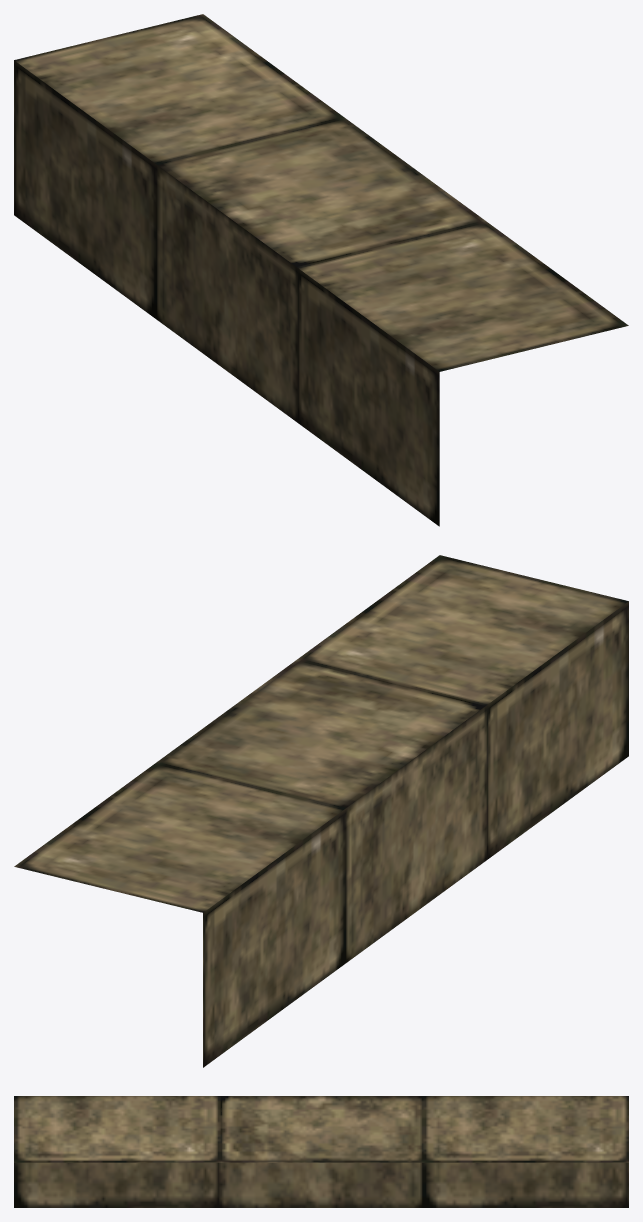
File: OVERHILL_A_01_OBJECT332.fbx
The picture shows the model from 3 angles, top to bottom: view 1: azimuth 30°, elevation 25°; view 2: azimuth 150°, elevation 25°; view 3: azimuth 270°, elevation 25°; orthographic projection. The views are drawn at different scales.
Parts seen in each view (by area): view 1: OVERHILL_A_01_OBJECT332; view 2: OVERHILL_A_01_OBJECT332; view 3: OVERHILL_A_01_OBJECT332.
Boxes of the visible parts, box(x1,y1,x2,y2) form: OVERHILL_A_01_OBJECT332: box(14, 14, 628, 526); OVERHILL_A_01_OBJECT332: box(14, 555, 628, 1067); OVERHILL_A_01_OBJECT332: box(14, 1096, 628, 1207).
Size of the model in its own units: 8372 by 6555 by 32635.
Materials: 1 (1 with a texture image).
